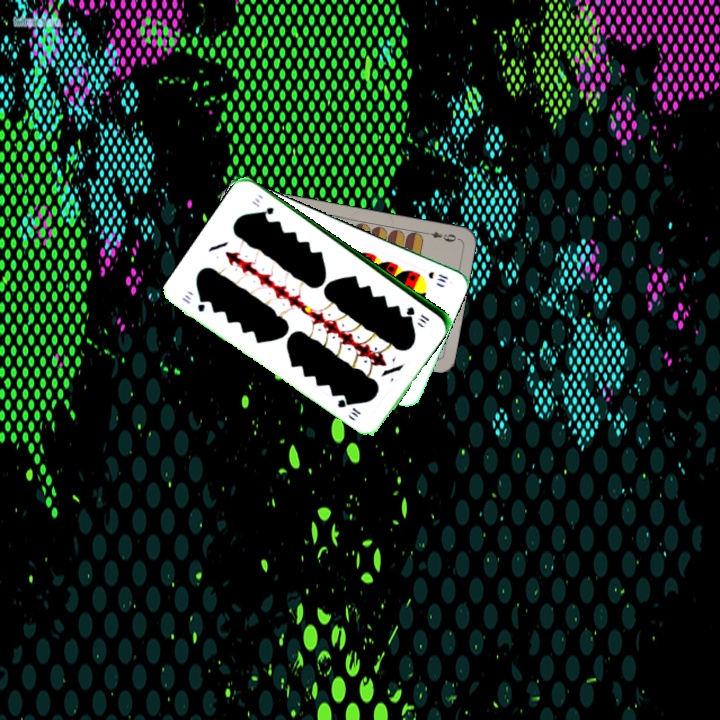E9: (420, 228, 461, 245)
G10: (403, 302, 432, 326), (178, 291, 208, 314)
S10: (424, 267, 451, 286)
